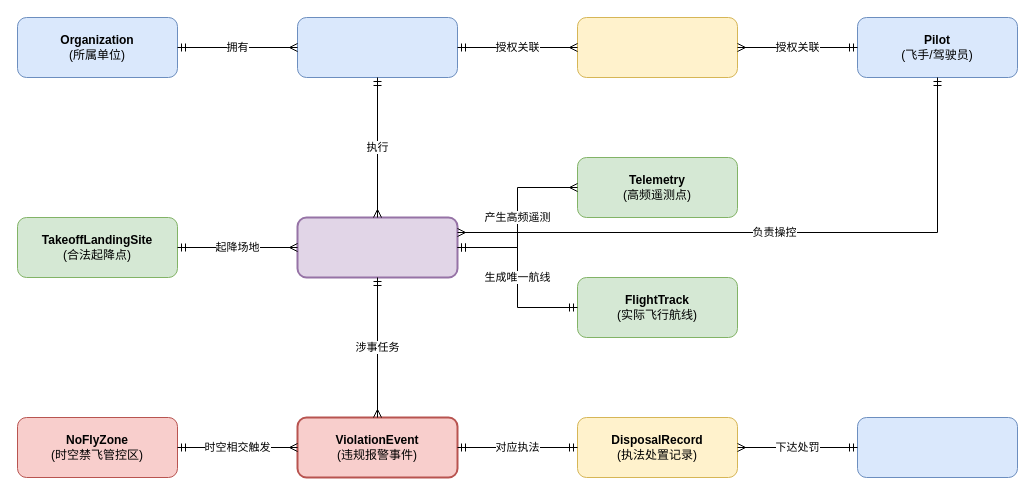
This 1035x496 diagram has some shape labels left out. Each missing label, with the box of its shape:
Authority (监管执法部门): (856, 416, 1018, 478)
Drone (无人机设备): (296, 16, 458, 78)
FlightMission (飞行任务申请): (296, 216, 458, 278)
Pilot_Drone (飞手设备授权): (576, 16, 738, 78)
